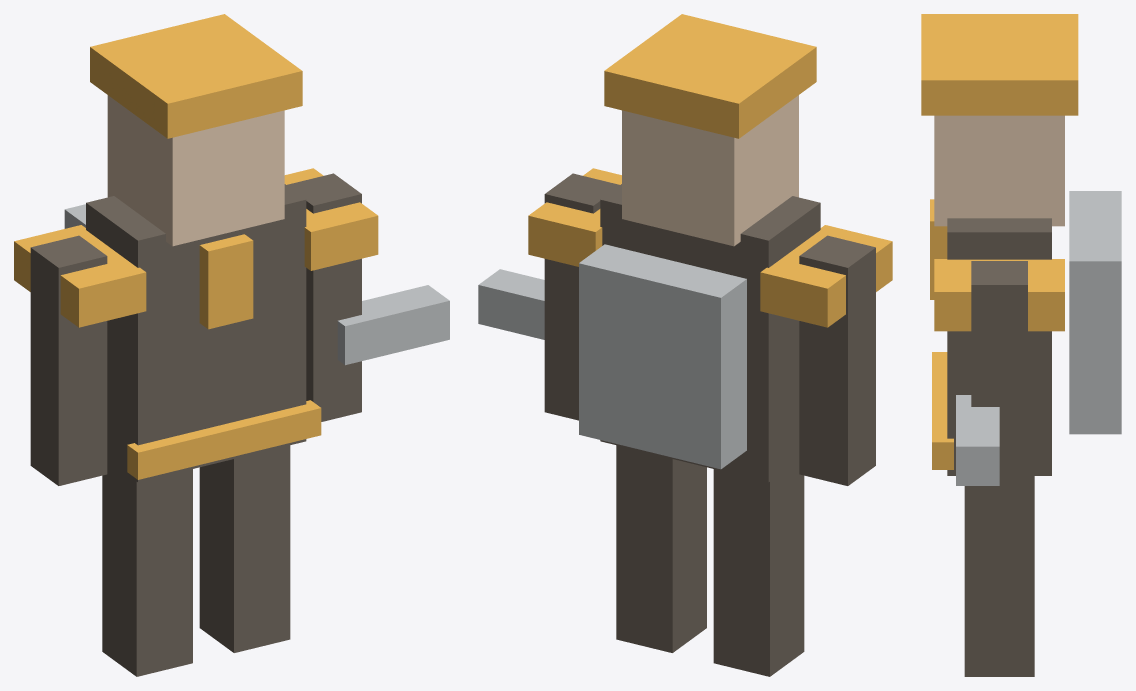
The model's file is 04_astra_trenchmark_scout_under_observation.glb.
The picture shows the model from 3 angles, left to right: view 1: azimuth 30°, elevation 25°; view 2: azimuth 150°, elevation 25°; view 3: azimuth 270°, elevation 25°; orthographic projection.
Parts seen in each view (by area): view 1: Astra Trenchmark, Scout under Observation; view 2: Astra Trenchmark, Scout under Observation; view 3: Astra Trenchmark, Scout under Observation.
Boxes of the visible parts, x1,y1,x2,y2 form: Astra Trenchmark, Scout under Observation: (14,14,449,676); Astra Trenchmark, Scout under Observation: (478,14,892,676); Astra Trenchmark, Scout under Observation: (921,14,1121,676).
Size of the model in its own units: 0.9886 by 1.44 by 0.4437.
